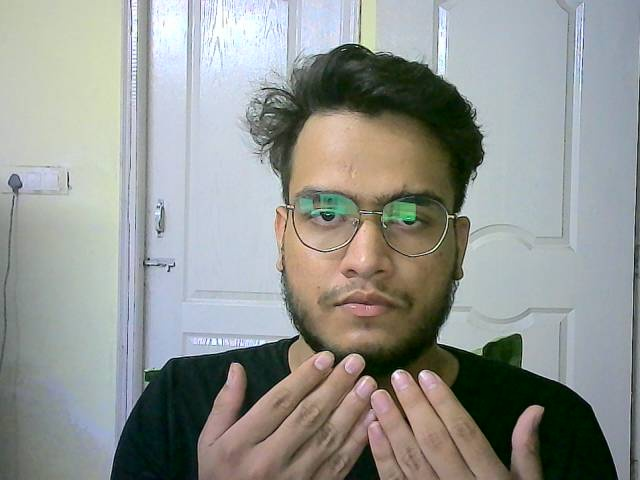Thank You: (193, 348, 556, 480)
